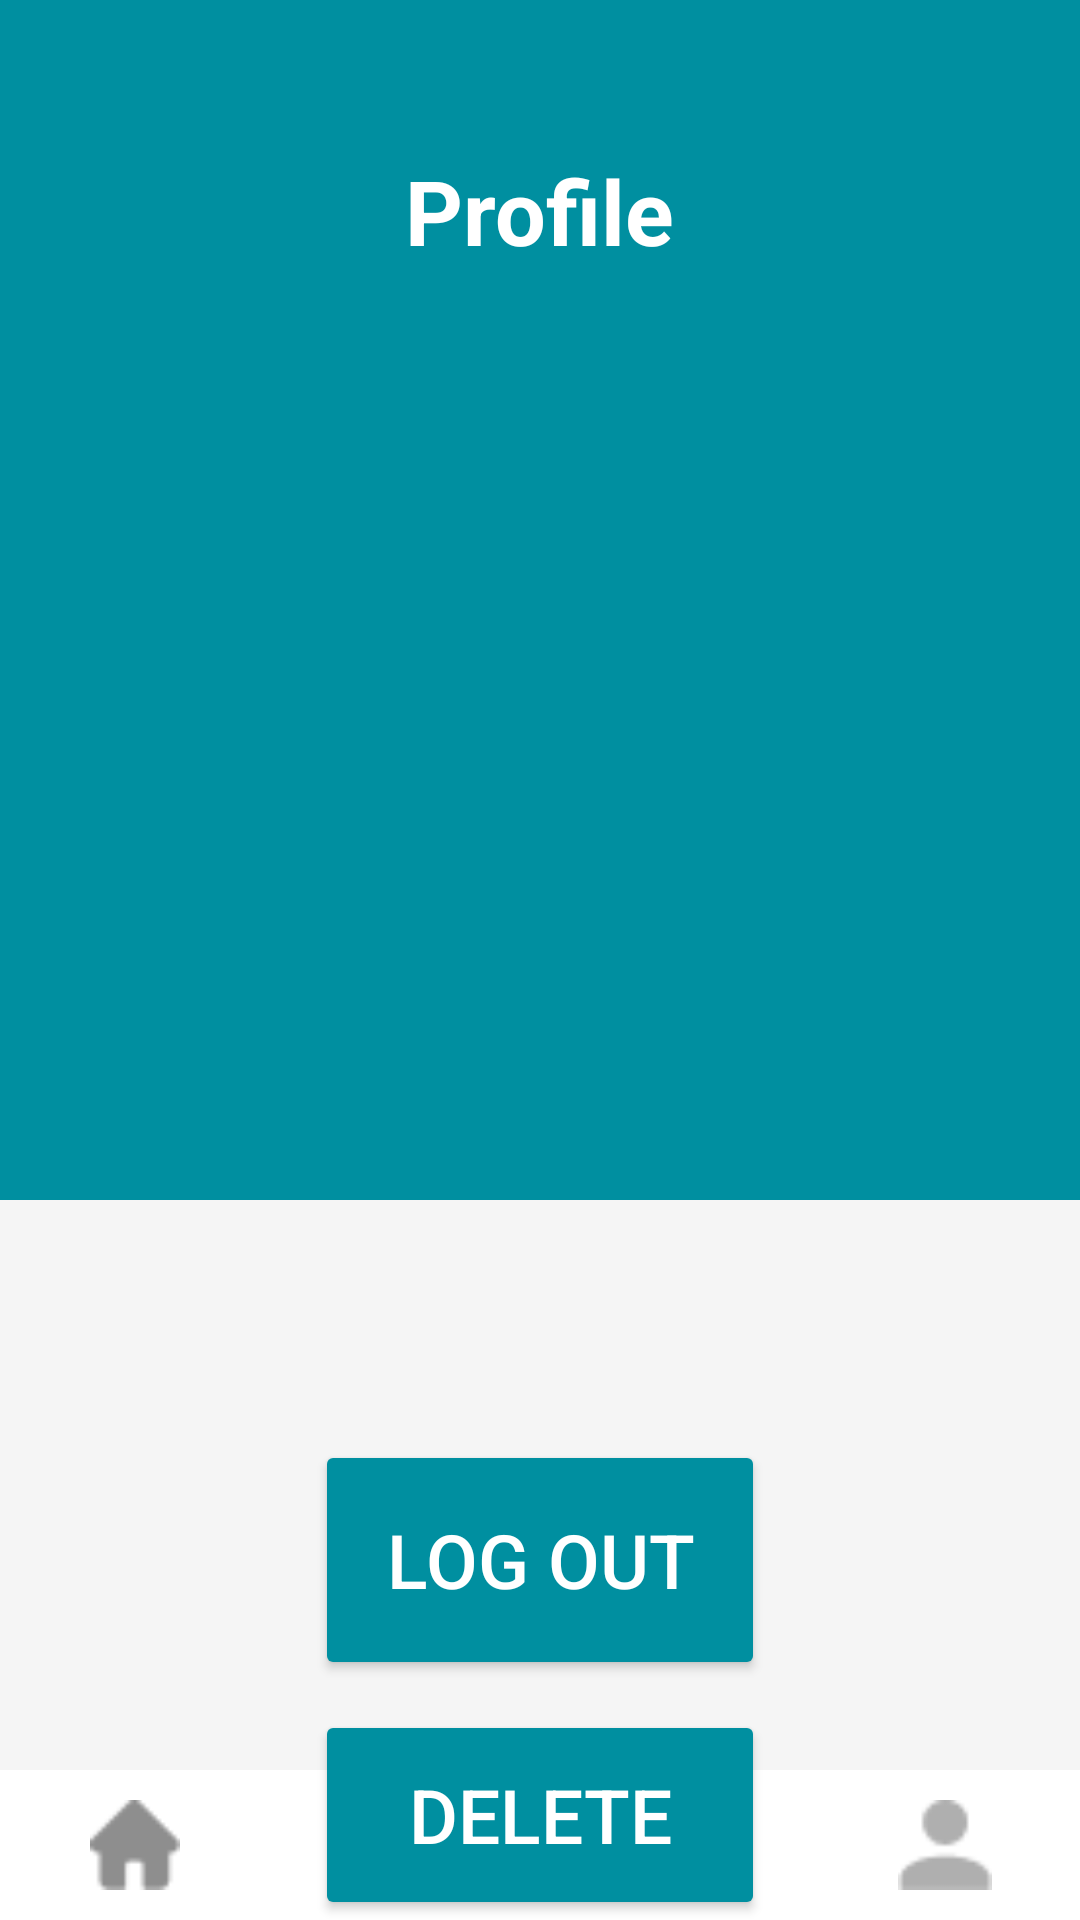

Where icons sit on this 1080*1920 app screen, as (x1, y1, x2, y2):
homeoff: (90, 1800, 180, 1890)
profile: (898, 1800, 992, 1890)
